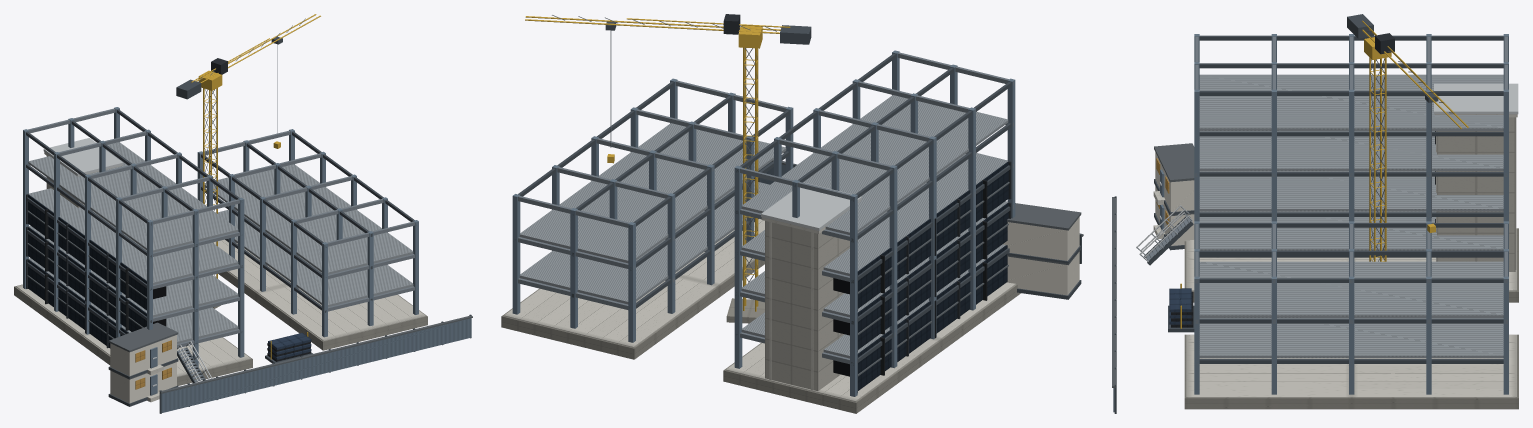
File: el-4-construction.glb
3 renders of one model, left to right at view 1: azimuth 30°, elevation 25°; view 2: azimuth 150°, elevation 25°; view 3: azimuth 270°, elevation 25°, orthographic. The views are drawn at different scales.
Size of the model in its own units: 36.44 by 24.75 by 31.02.
26 materials, 16 textured.
